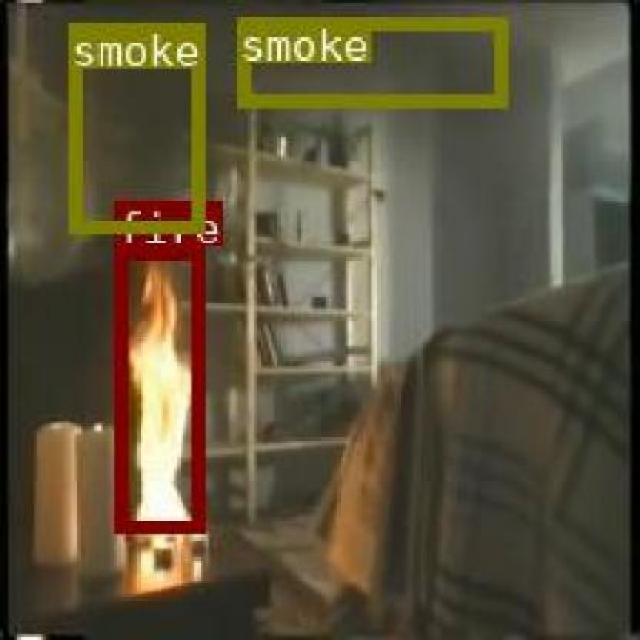CIV_Plane: (112, 245, 202, 530)
Fire: (112, 245, 202, 530)
Smoke: (240, 13, 502, 104), (34, 24, 106, 228)
